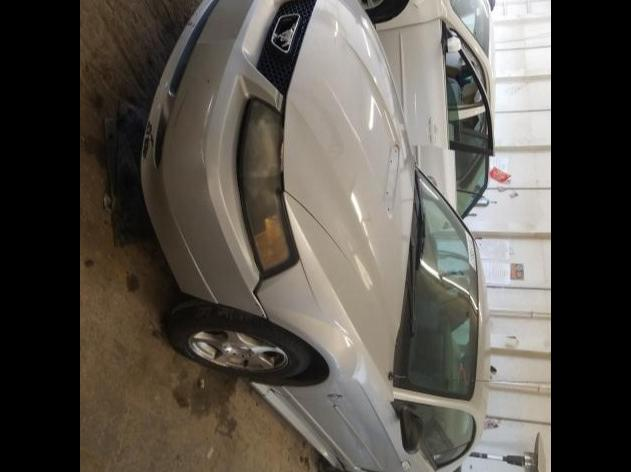Broken part: (232, 88, 288, 320), (324, 444, 348, 470)
Corrosion: (266, 388, 278, 396)
Flaking: (176, 218, 210, 288)
Missing part: (384, 144, 398, 216)
Paint chip: (142, 124, 152, 156), (255, 302, 260, 308), (207, 78, 210, 84), (260, 314, 264, 316)
Scratch: (174, 92, 186, 126), (204, 92, 214, 126), (198, 138, 204, 166), (186, 22, 194, 26), (207, 80, 210, 82)
